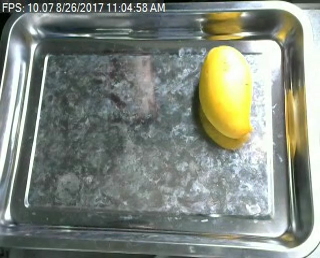Mango: (194, 42, 262, 142)
